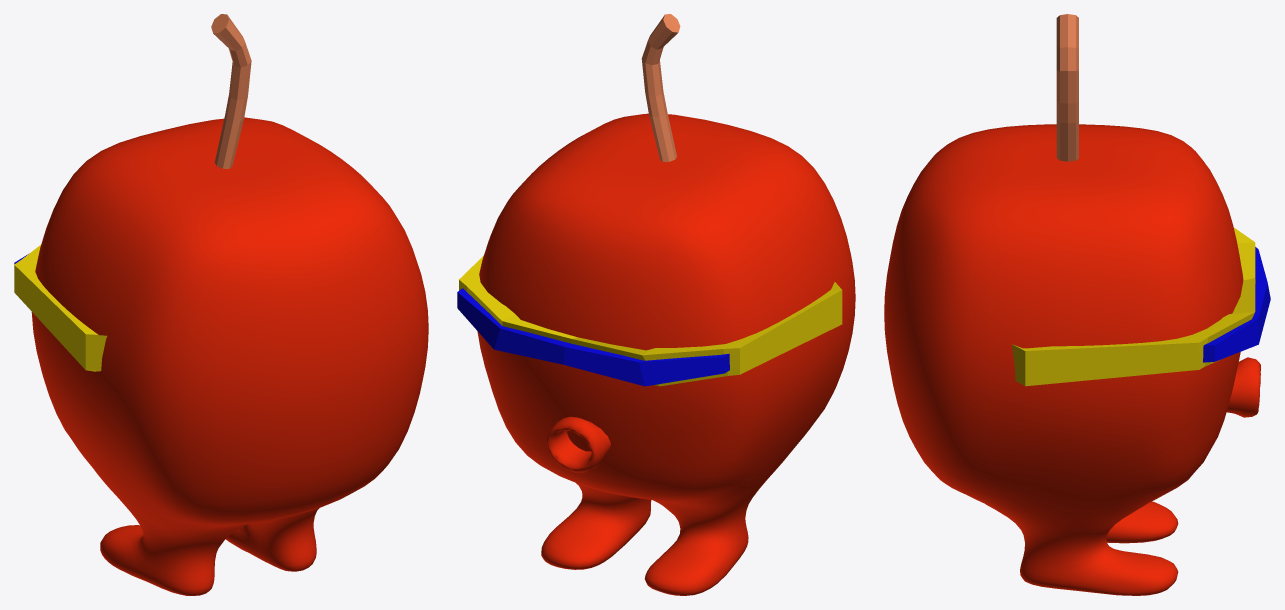
File: apple-v1.fbx
3 renders of one model, left to right at view 1: azimuth 30°, elevation 25°; view 2: azimuth 150°, elevation 25°; view 3: azimuth 270°, elevation 25°, orthographic. The views are drawn at different scales.
Visible parts, largest first — view 1: Cube, Cube.001, Cylinder; view 2: Cube, Cube.001, Cube.002, Cylinder, Cylinder.001; view 3: Cube, Cube.001, Cylinder, Cube.002, Cylinder.001.
Boxes of the visible parts, bbox=[...] form: Cube: bbox=[31, 117, 428, 595]; Cube.001: bbox=[14, 244, 107, 371]; Cylinder: bbox=[211, 14, 251, 168]; Cube: bbox=[477, 113, 855, 595]; Cube.001: bbox=[459, 255, 842, 386]; Cube.002: bbox=[457, 288, 729, 386]; Cylinder: bbox=[641, 14, 680, 161]; Cylinder.001: bbox=[546, 416, 610, 472]; Cube: bbox=[884, 124, 1243, 595]; Cube.001: bbox=[1011, 227, 1255, 386]; Cylinder: bbox=[1056, 14, 1078, 161]; Cube.002: bbox=[1203, 247, 1270, 362]; Cylinder.001: bbox=[1226, 357, 1260, 417].
Size of the model in its own units: 628 by 1017 by 654.
